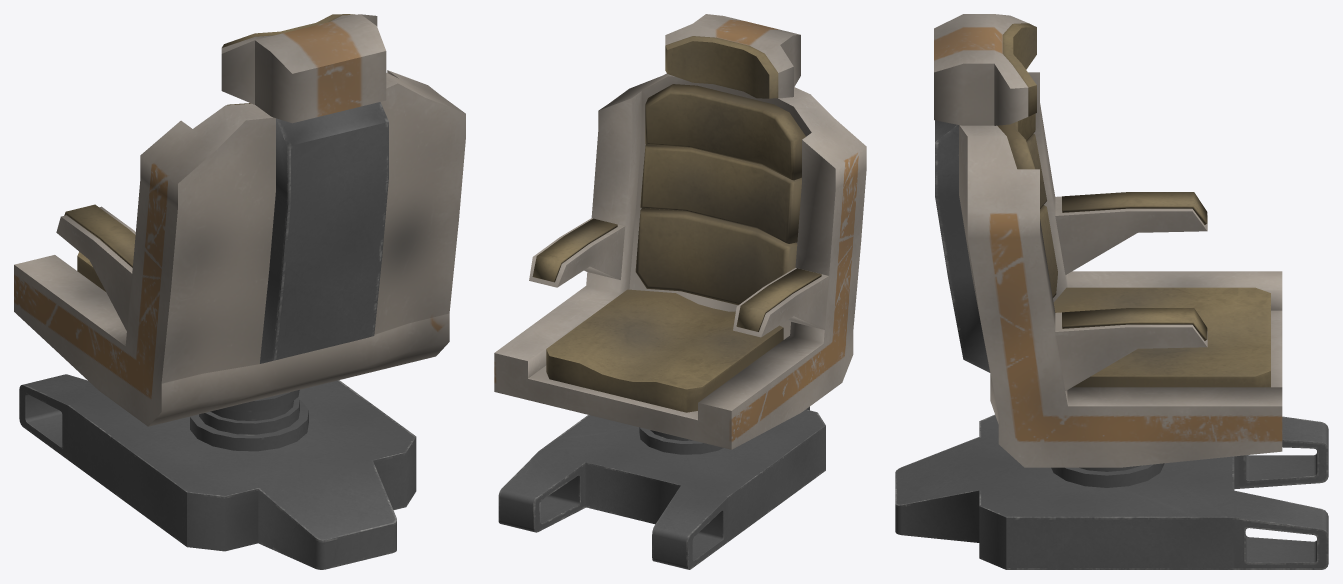
Rendered from chair_big.glb.
3 renders of one model, left to right at view 1: azimuth 30°, elevation 25°; view 2: azimuth 150°, elevation 25°; view 3: azimuth 270°, elevation 25°, orthographic. The views are drawn at different scales.
Visible parts, largest first — view 1: hbase_low.001; view 2: hbase_low.001; view 3: hbase_low.001.
Boxes of the visible parts, box(x1,y1,x2,y2) form: hbase_low.001: box(14, 14, 465, 569); hbase_low.001: box(494, 14, 866, 569); hbase_low.001: box(895, 14, 1328, 569).
Bounding box in the file's own units: 106 × 174 × 143.
Materials: 1 (1 with a texture image).
